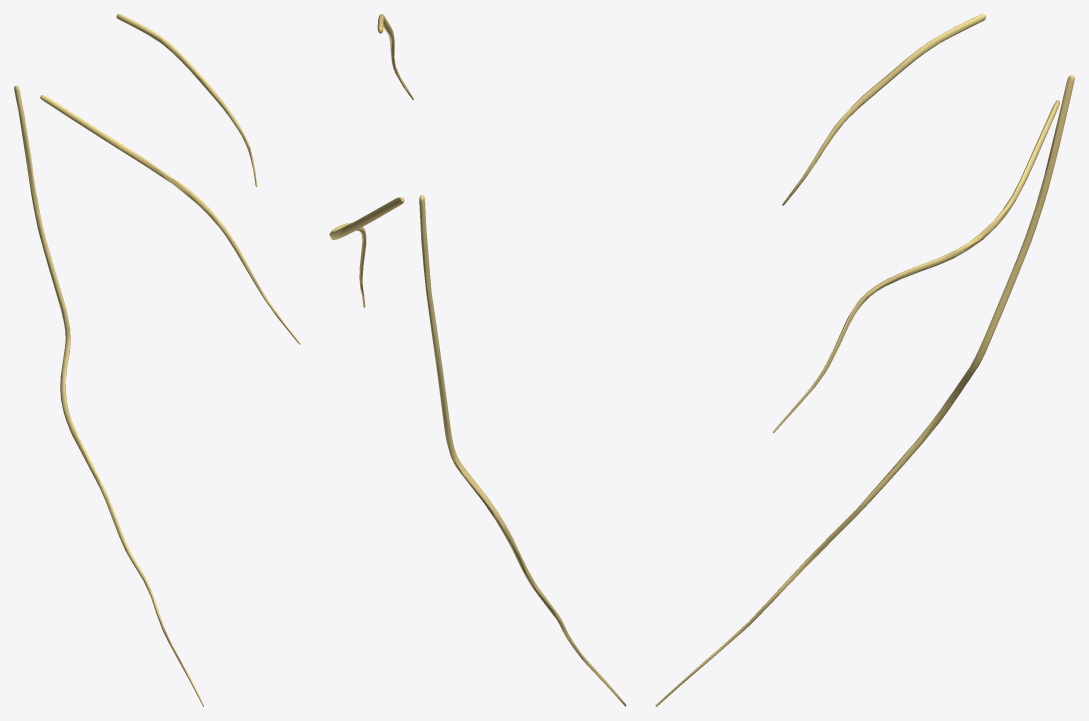
Rendered from fma44979_fj4270.glb.
3 renders of one model, left to right at view 1: azimuth 30°, elevation 25°; view 2: azimuth 150°, elevation 25°; view 3: azimuth 270°, elevation 25°, orthographic. The views are drawn at different scales.
Parts seen in each view (by area): view 1: FMA44979_FJ4270; view 2: FMA44979_FJ4270; view 3: FMA44979_FJ4270.
Boxes of the visible parts, x1,y1,x2,y2 form: FMA44979_FJ4270: [14, 14, 300, 706]; FMA44979_FJ4270: [329, 14, 626, 706]; FMA44979_FJ4270: [655, 14, 1074, 706].
Bounding box in the file's own units: 0.0446 × 0.1454 × 0.0767.
